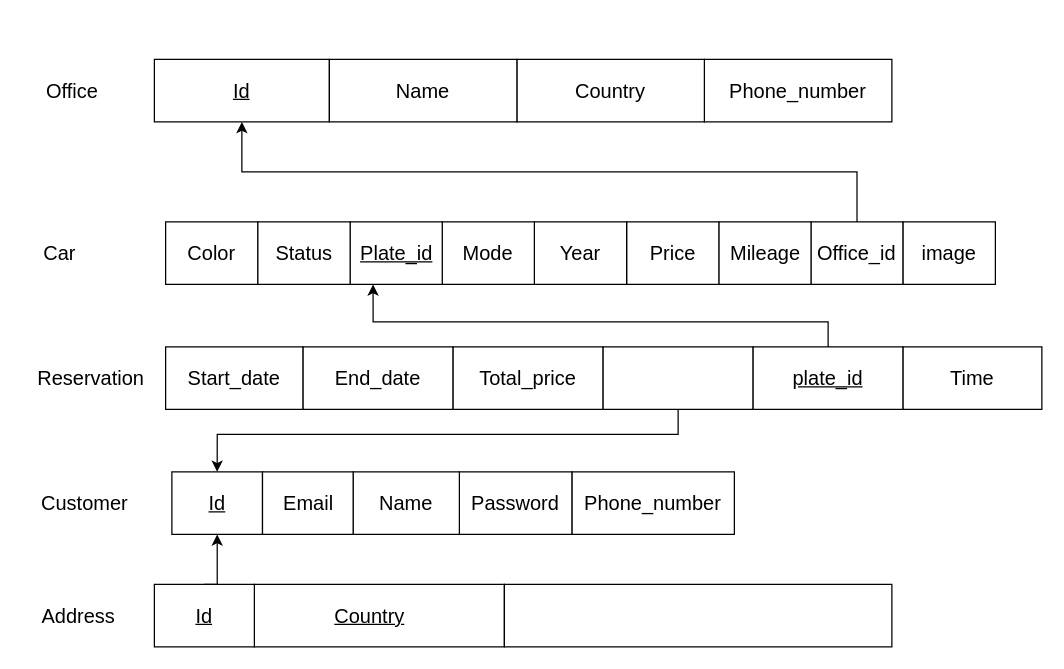
This 1064x669 diagram has some shape labels left out. Here are the shapes that lost their labels. From the top down, the centre of each, then its label:
point (677, 377): Customer_id
point (697, 615): Governorate
